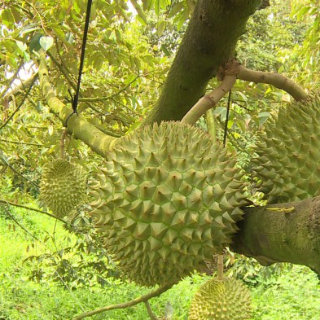sau_rieng: (85, 116, 248, 292)
